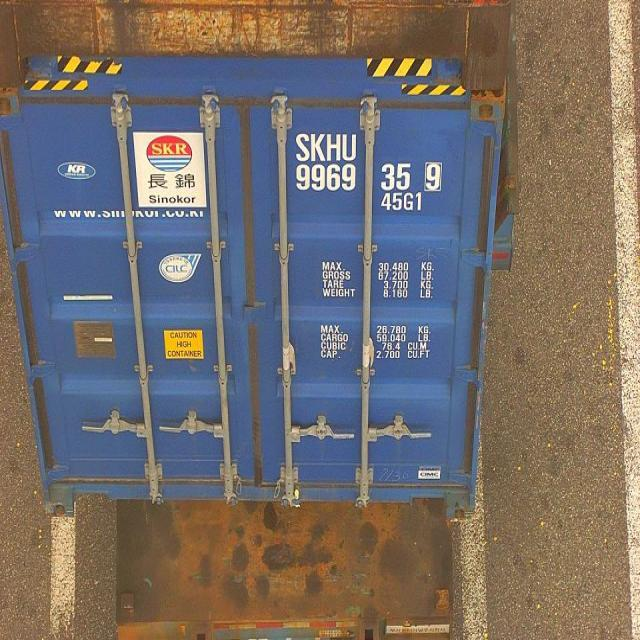ISO: (380, 192, 425, 212)
container_number: (292, 130, 444, 190)
